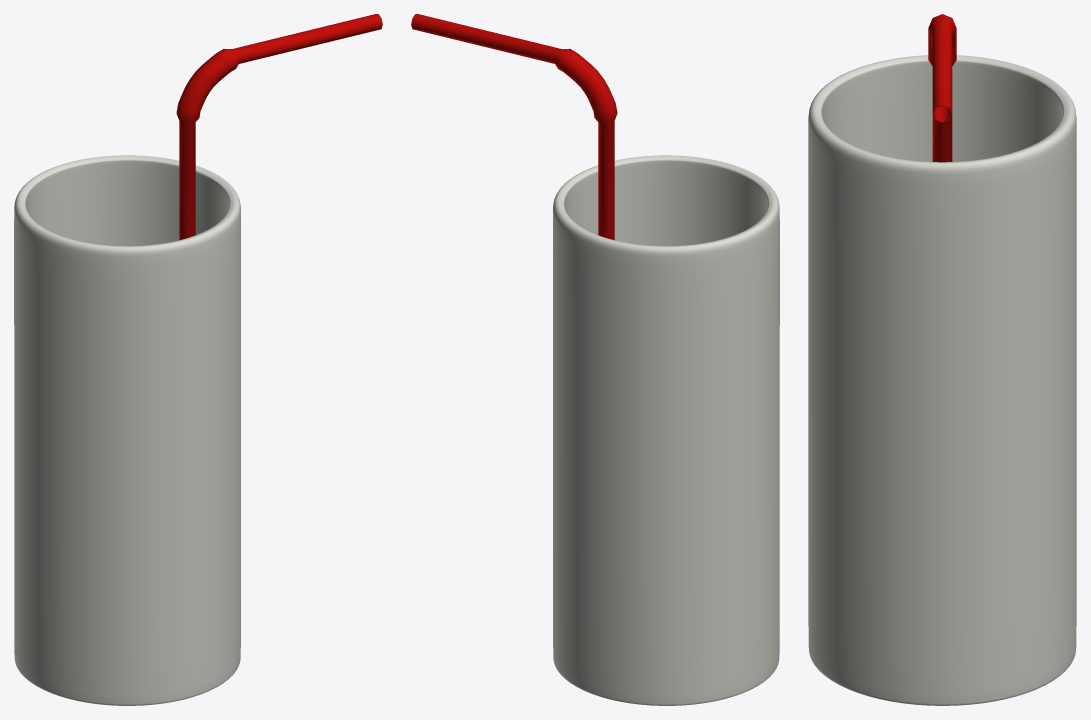
The model's file is limonata_bardag_bos.fbx.
3 views of the same model, side by side, from view 1: azimuth 30°, elevation 25°; view 2: azimuth 150°, elevation 25°; view 3: azimuth 270°, elevation 25° (orthographic). The views are drawn at different scales.
Parts seen in each view (by area): view 1: bos bardak; view 2: bos bardak; view 3: bos bardak.
Part boxes in pixels (left/top/right/bottom): bos bardak: left=14, top=14, right=382, bottom=705; bos bardak: left=411, top=14, right=779, bottom=705; bos bardak: left=808, top=14, right=1076, bottom=705.
Size of the model in its own units: 89.5 by 143 by 50.4.
